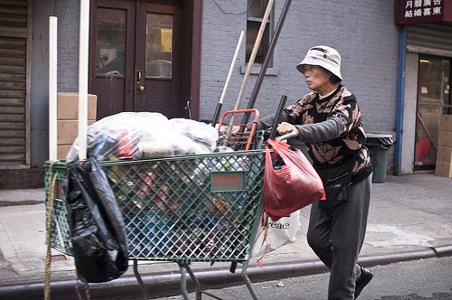person: (227, 45, 375, 300)
